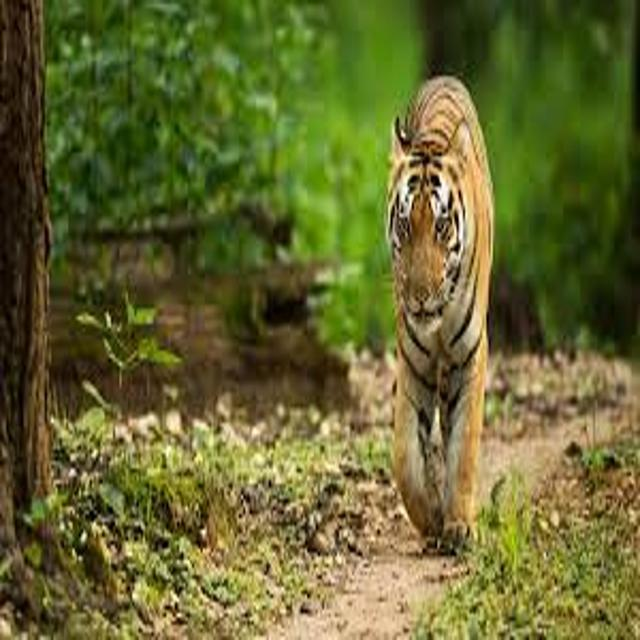tiger: (327, 45, 562, 590)
